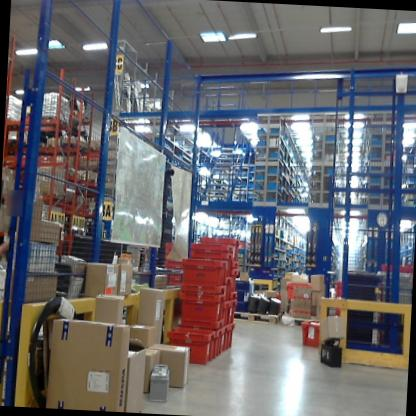pallet: (230, 307, 281, 330), (285, 314, 328, 325)
small_load_carrier: (156, 323, 215, 362), (174, 294, 228, 330), (174, 258, 230, 286), (298, 316, 333, 351), (176, 283, 229, 297), (185, 240, 236, 254), (222, 320, 238, 357), (187, 249, 235, 261), (221, 297, 238, 328), (206, 332, 226, 357), (226, 267, 241, 295), (220, 288, 241, 301), (226, 260, 239, 270)
